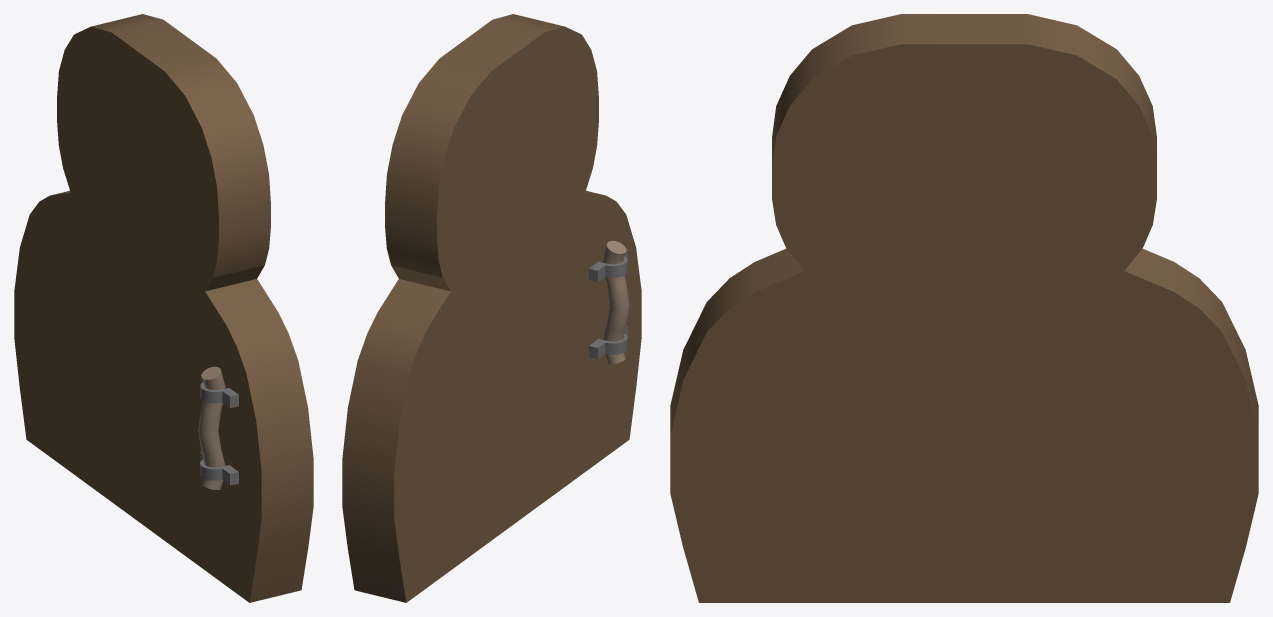
Rendered from door_03.fbx.
The picture shows the model from 3 angles, left to right: view 1: azimuth 30°, elevation 25°; view 2: azimuth 150°, elevation 25°; view 3: azimuth 270°, elevation 25°; orthographic projection. The views are drawn at different scales.
Visible parts, largest first — view 1: pCube7, rope_handle; view 2: pCube7, rope_handle; view 3: pCube7.
Boxes of the visible parts, x1=… form: pCube7: x1=14, y1=14, x2=313, y2=602; rope_handle: x1=198, y1=366, x2=238, y2=489; pCube7: x1=342, y1=14, x2=641, y2=602; rope_handle: x1=589, y1=241, x2=629, y2=364; pCube7: x1=670, y1=14, x2=1258, y2=602.
Size of the model in its own units: 44.87 by 263 by 251.
